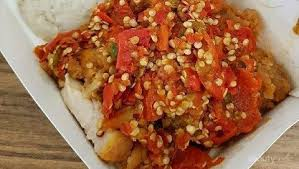ayam_geprek: (52, 8, 282, 162)
